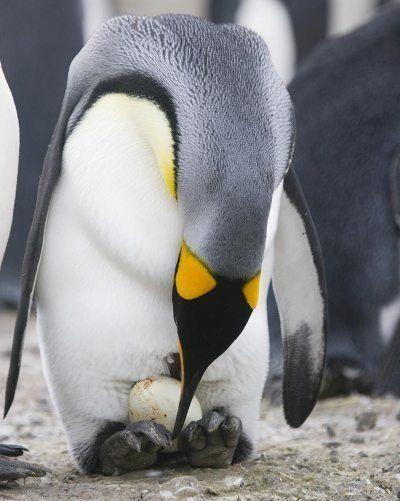emporer: (18, 1, 338, 479)
